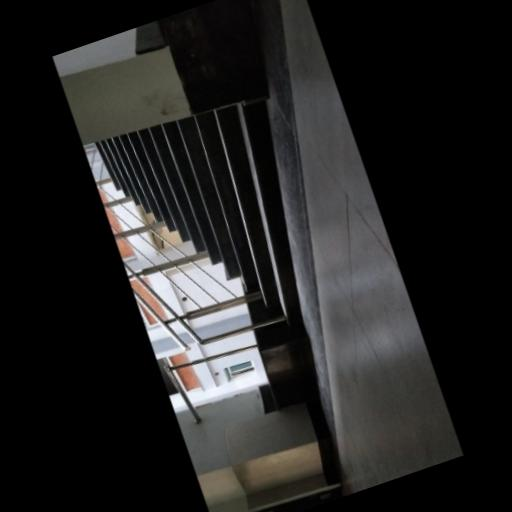stairs: (96, 101, 301, 321)
